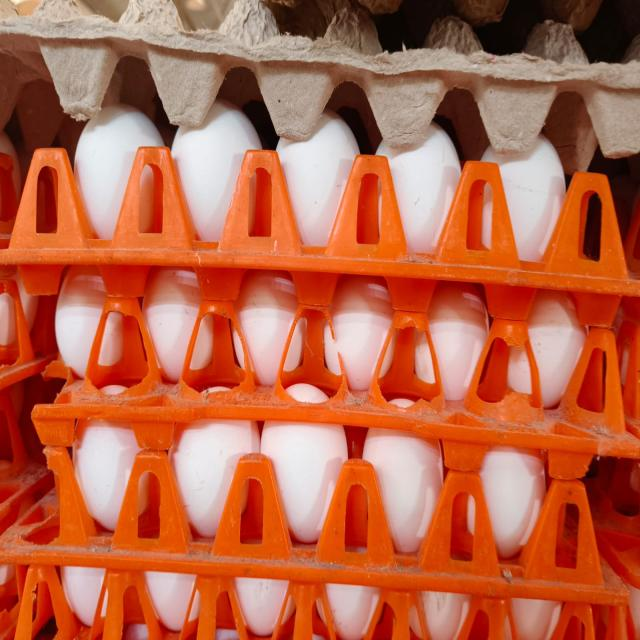egg_tray: (20, 148, 637, 468), (33, 266, 638, 477), (3, 114, 637, 295), (16, 553, 628, 639), (11, 566, 634, 639), (18, 566, 562, 639), (163, 0, 640, 63), (15, 565, 238, 639), (0, 268, 61, 531), (0, 268, 61, 530), (0, 267, 60, 530), (0, 267, 61, 498), (0, 267, 61, 479), (584, 457, 640, 638), (585, 457, 640, 638), (585, 457, 640, 637), (586, 458, 640, 637), (0, 375, 59, 531), (0, 375, 61, 499), (0, 266, 57, 389), (0, 266, 56, 389), (3, 0, 158, 29), (0, 380, 44, 480), (0, 463, 54, 530), (0, 131, 22, 247), (0, 132, 21, 247), (0, 133, 21, 246), (0, 562, 26, 637), (0, 563, 26, 637), (0, 564, 26, 637), (0, 565, 19, 637), (624, 200, 640, 278), (242, 487, 257, 546), (620, 322, 636, 362), (60, 193, 82, 221), (212, 103, 245, 118), (20, 197, 34, 230), (94, 107, 124, 122), (117, 276, 141, 294), (34, 407, 53, 426), (4, 246, 26, 259), (624, 299, 637, 317), (237, 617, 247, 637), (12, 229, 26, 243), (156, 428, 170, 441), (82, 121, 93, 137), (211, 112, 224, 125), (30, 167, 38, 186), (42, 434, 58, 443), (54, 367, 66, 376), (58, 179, 62, 205), (626, 297, 633, 311), (96, 125, 109, 132), (76, 104, 90, 110), (67, 170, 72, 186), (25, 180, 29, 194), (141, 139, 152, 144), (204, 122, 209, 133), (474, 458, 480, 467), (628, 627, 633, 637), (471, 239, 477, 247), (522, 631, 528, 639), (353, 538, 362, 543), (599, 318, 608, 323), (477, 447, 481, 458), (134, 113, 145, 117), (171, 565, 183, 568), (324, 275, 333, 279), (584, 605, 590, 611), (233, 599, 236, 610), (18, 567, 23, 573), (332, 571, 336, 578), (405, 228, 409, 234), (570, 470, 576, 474), (68, 438, 72, 444), (118, 290, 124, 294), (574, 473, 581, 476), (260, 632, 270, 634), (25, 231, 30, 235), (392, 281, 397, 285), (403, 221, 406, 227), (84, 628, 88, 632), (562, 473, 567, 476), (65, 436, 68, 441), (85, 225, 88, 230), (106, 148, 109, 153), (149, 121, 152, 126), (468, 277, 474, 279), (55, 152, 61, 154), (99, 163, 103, 166), (350, 132, 352, 137), (31, 515, 34, 518), (35, 389, 38, 392), (248, 121, 250, 125), (350, 533, 353, 535), (51, 370, 53, 373), (336, 137, 339, 139), (232, 380, 234, 382), (586, 322, 590, 323), (49, 395, 51, 397), (154, 435, 158, 436), (632, 368, 634, 370), (80, 225, 82, 227), (485, 625, 489, 626), (475, 624, 477, 626), (106, 153, 108, 155), (342, 143, 344, 145), (156, 140, 158, 142), (156, 555, 157, 558), (40, 385, 43, 386), (206, 140, 209, 141), (114, 134, 115, 137), (103, 133, 106, 134), (245, 566, 246, 568), (246, 563, 247, 565), (75, 558, 76, 560), (602, 321, 604, 322), (477, 278, 479, 279), (36, 385, 38, 386), (529, 638, 531, 639), (387, 595, 388, 597), (343, 141, 344, 143), (71, 560, 72, 561), (67, 558, 68, 559), (245, 368, 246, 369), (16, 445, 17, 446), (107, 172, 108, 173), (476, 58, 477, 59), (52, 485, 52, 485), (605, 323, 608, 323), (521, 256, 521, 257), (468, 243, 468, 244), (514, 232, 515, 232), (139, 227, 139, 228), (188, 234, 188, 235), (465, 454, 467, 454), (325, 283, 326, 283), (585, 636, 586, 636), (518, 636, 520, 636), (492, 635, 492, 636), (383, 144, 383, 146), (6, 636, 13, 636), (299, 44, 299, 46), (303, 41, 304, 41), (147, 10, 148, 10)
